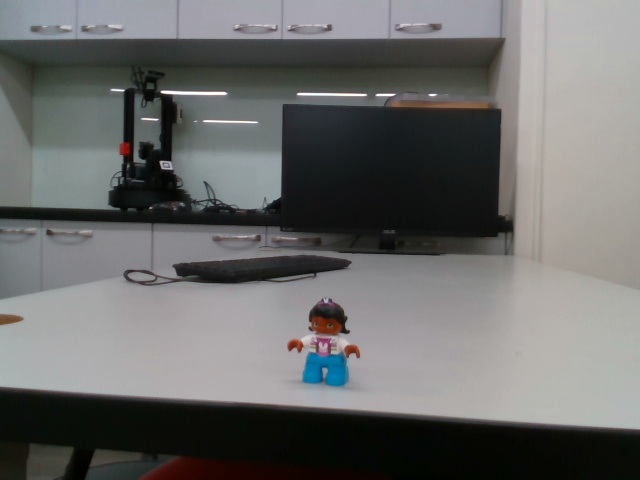people: (286, 295, 363, 391)
